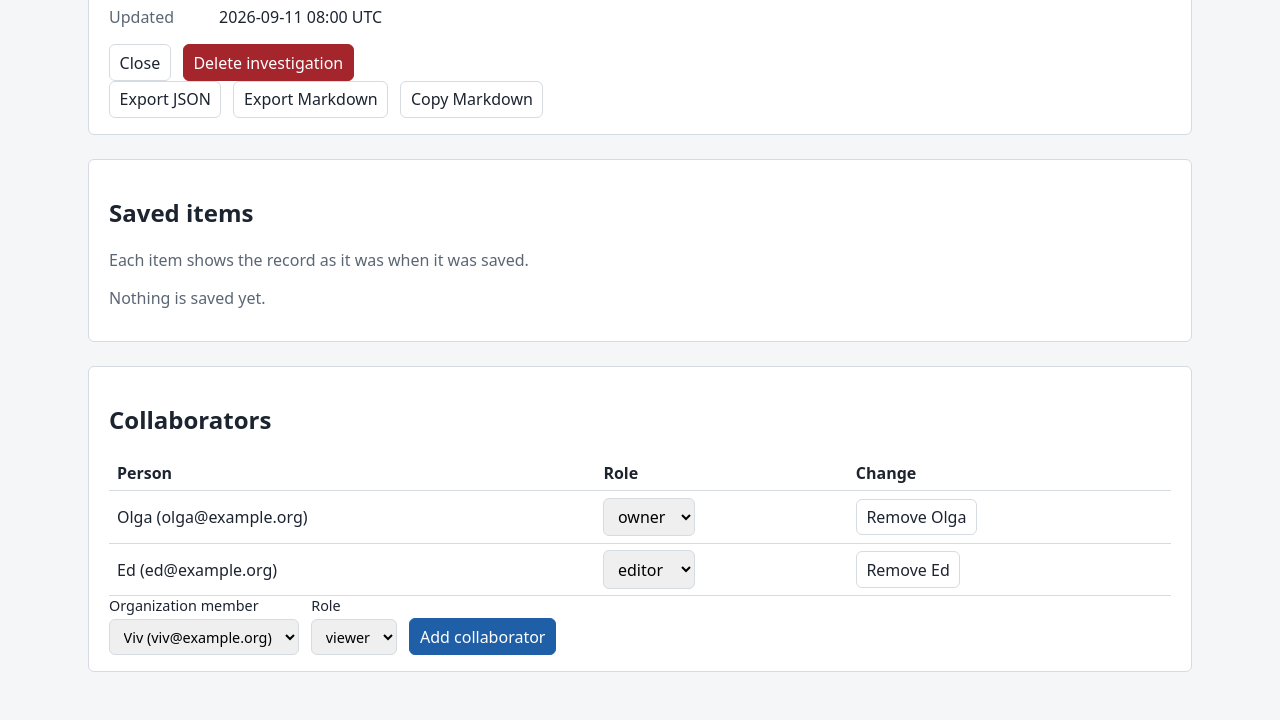
Test case: investigation collaborators › shows the API's last owner rule
The width and height of the screenshot is (1280, 720).
(page scrolled)
expect the text "Olga (olga@example.org)" is shown: met, box x1=109 y1=491 x2=595 y2=543
Select "editor" in the dropdown named "Role of Olga". click: [649, 517]
box: x1=603 y1=498 x2=695 y2=536
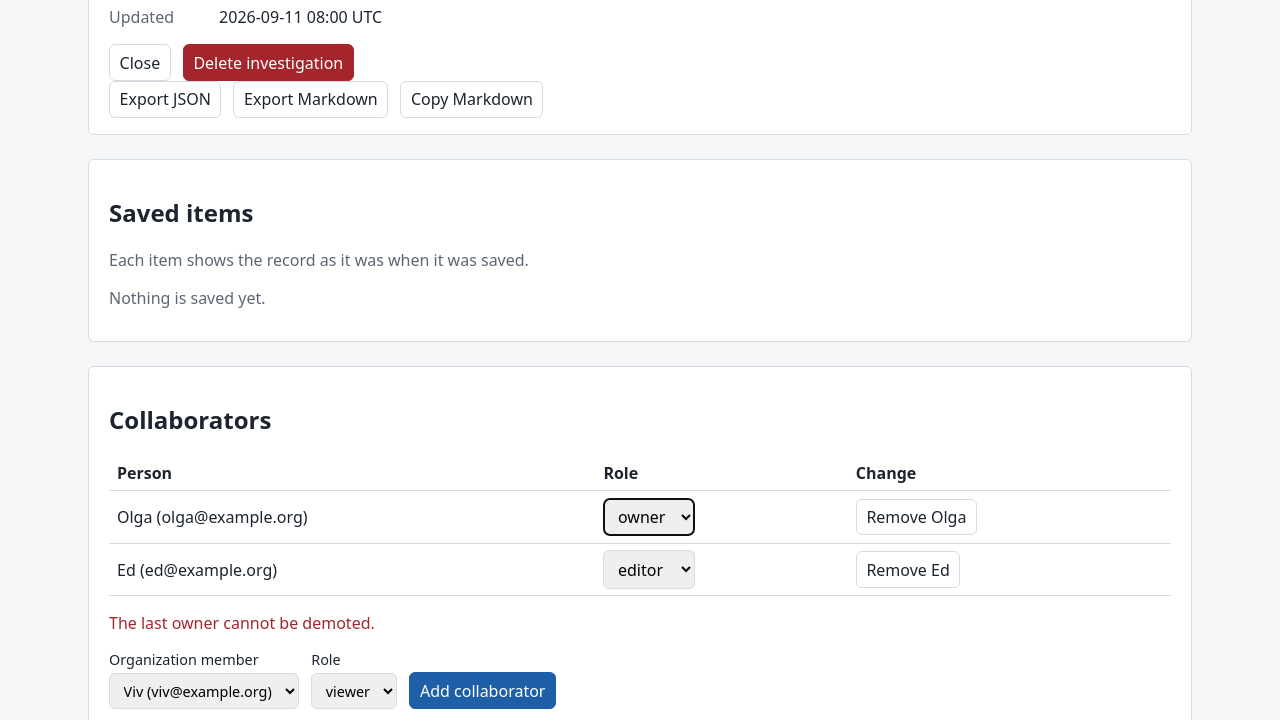
expect the message reads "The last owner cannot be demoted.": met, box x1=109 y1=612 x2=375 y2=634
